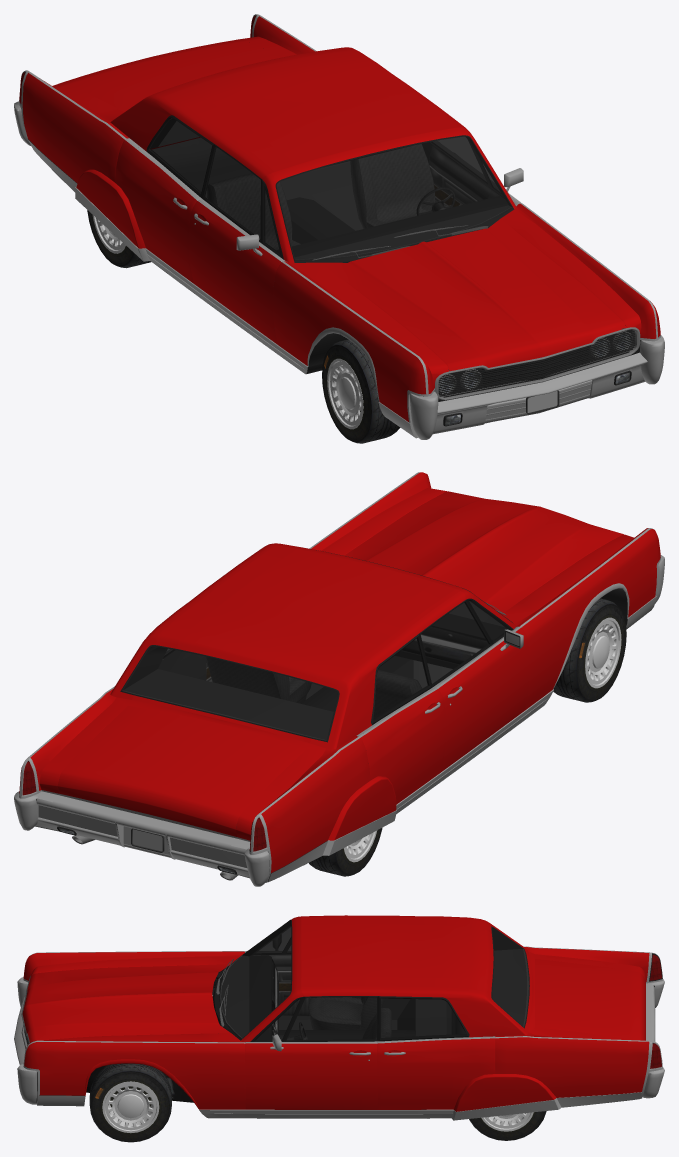
The model's file is Car_2.FBX.
The picture shows the model from 3 angles, top to bottom: view 1: azimuth 30°, elevation 25°; view 2: azimuth 150°, elevation 25°; view 3: azimuth 270°, elevation 25°; orthographic projection. The views are drawn at different scales.
Visible parts, largest first — view 1: Body, Door_F, Door_R 1, Door_R 2, Door_B, Wheel_FR, Door_L 1, Wheel_BR; view 2: Body, Door_B, Door_F, Door_R 1, Door_R 2, Wheel_FR, Wheel_BR, Door_L 2; view 3: Body, Door_L 1, Door_F, Door_L 2, Door_B, Wheel_FL, Door_R 1, Wheel_BL, Door_R 2.
Part boxes in pixels (<box>): Body: <box>14,14,664,439</box>; Door_F: <box>320,218,626,371</box>; Door_R 1: <box>188,147,286,344</box>; Door_R 2: <box>114,118,216,283</box>; Door_B: <box>62,39,280,111</box>; Wheel_FR: <box>322,339,400,443</box>; Door_L 1: <box>429,137,523,206</box>; Wheel_BR: <box>87,210,150,268</box>; Body: <box>14,472,664,886</box>; Door_B: <box>57,706,305,838</box>; Door_F: <box>344,491,623,614</box>; Door_R 1: <box>421,598,529,771</box>; Door_R 2: <box>356,633,446,803</box>; Wheel_FR: <box>553,598,626,702</box>; Wheel_BR: <box>309,828,382,876</box>; Door_L 2: <box>158,649,206,680</box>; Body: <box>14,915,664,1120</box>; Door_L 1: <box>245,996,377,1109</box>; Door_F: <box>22,964,230,1042</box>; Door_L 2: <box>377,996,495,1109</box>; Door_B: <box>535,959,645,1040</box>; Wheel_FL: <box>89,1063,171,1142</box>; Door_R 1: <box>245,926,360,1019</box>; Wheel_BL: <box>469,1111,546,1140</box>; Door_R 2: <box>382,998,409,1019</box>.
Bounding box in the file's own units: 56.8 × 35.31 × 143.
